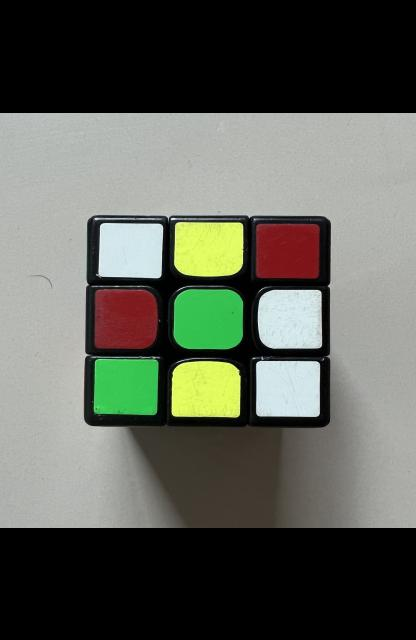Green: (173, 288, 243, 348), (93, 358, 158, 414)
Red: (94, 289, 158, 348), (256, 222, 319, 278)
White: (258, 289, 322, 348), (97, 221, 163, 278), (256, 360, 320, 416)
Yellow: (172, 360, 240, 416), (174, 221, 243, 276)
